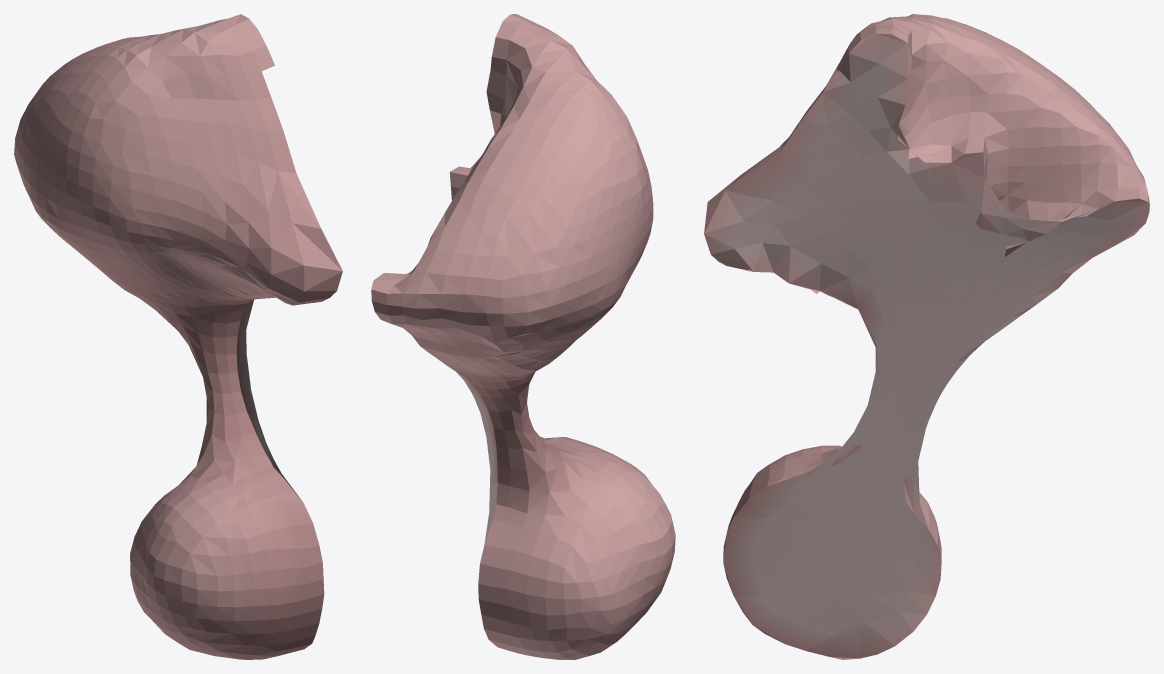
File: Hypothalamus_and_pituitary1.obj
The picture shows the model from 3 angles, left to right: view 1: azimuth 30°, elevation 25°; view 2: azimuth 150°, elevation 25°; view 3: azimuth 270°, elevation 25°; orthographic projection. The views are drawn at different scales.
Visible parts, largest first — view 1: obj0; view 2: obj0; view 3: obj0.
Boxes of the visible parts, x1,y1,x2,y2 form: obj0: (14,14,342,659); obj0: (371,14,675,659); obj0: (704,14,1149,659).
Bounding box in the file's own units: 8.79 × 30.08 × 19.42.
1 material, 1 textured.
